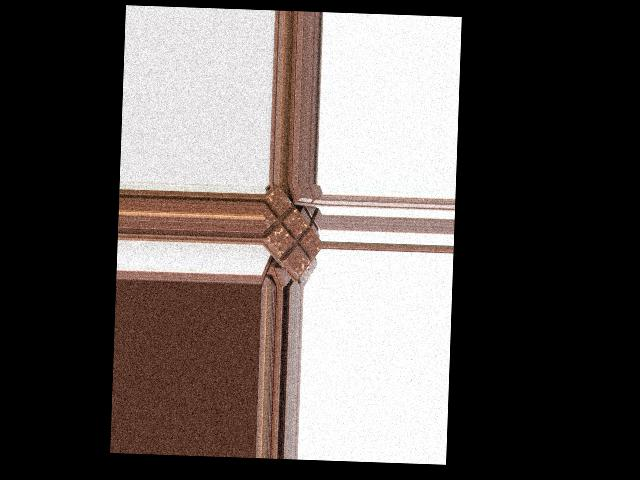chocolate: (261, 185, 322, 276)
